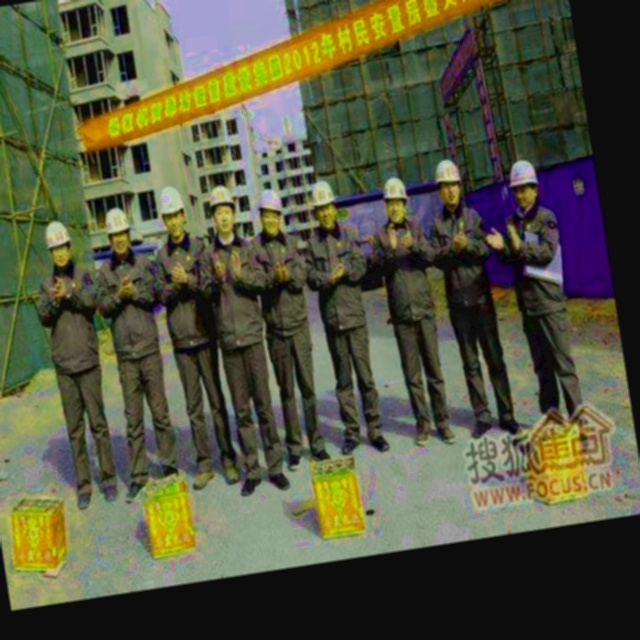Con_Casco: (308, 177, 342, 232), (380, 172, 413, 226)
